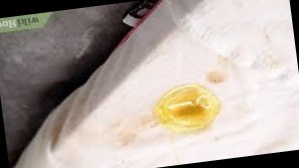oil: (147, 82, 224, 133), (107, 117, 164, 143), (200, 65, 232, 94), (217, 51, 244, 69)
